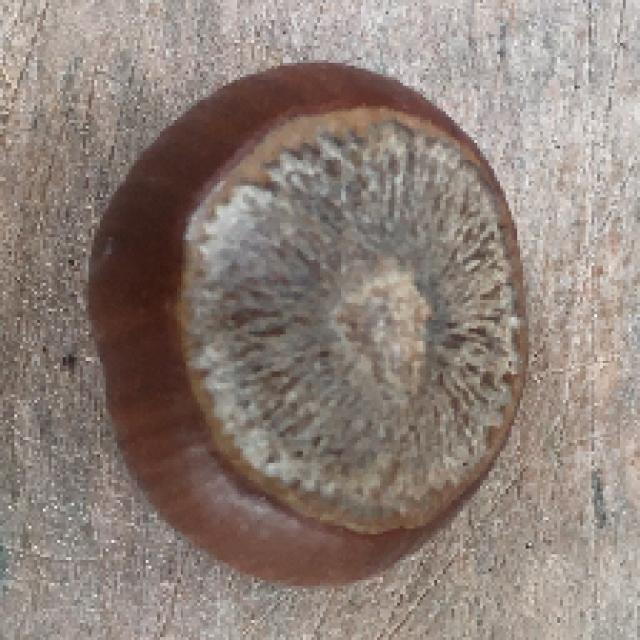qualityHazelnut: (92, 55, 532, 590)
